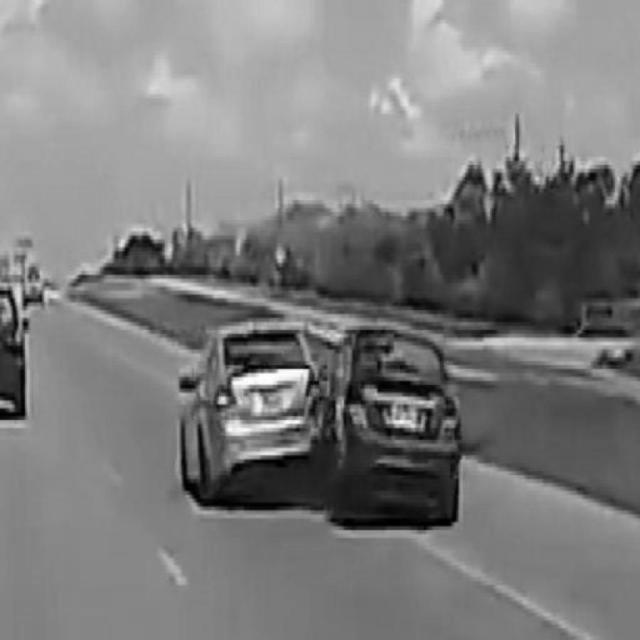accident: (183, 320, 464, 527)
